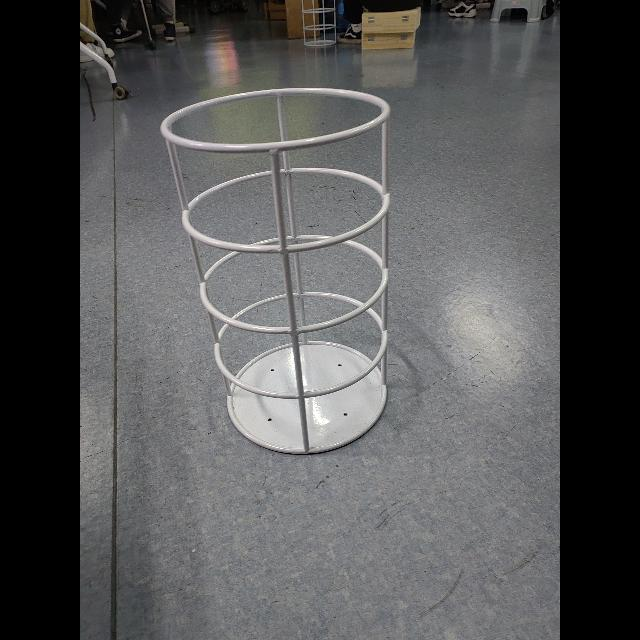S: (155, 80, 403, 460)
